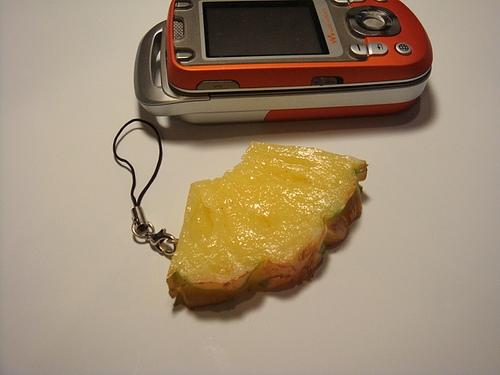pineapple: (166, 140, 369, 312)
